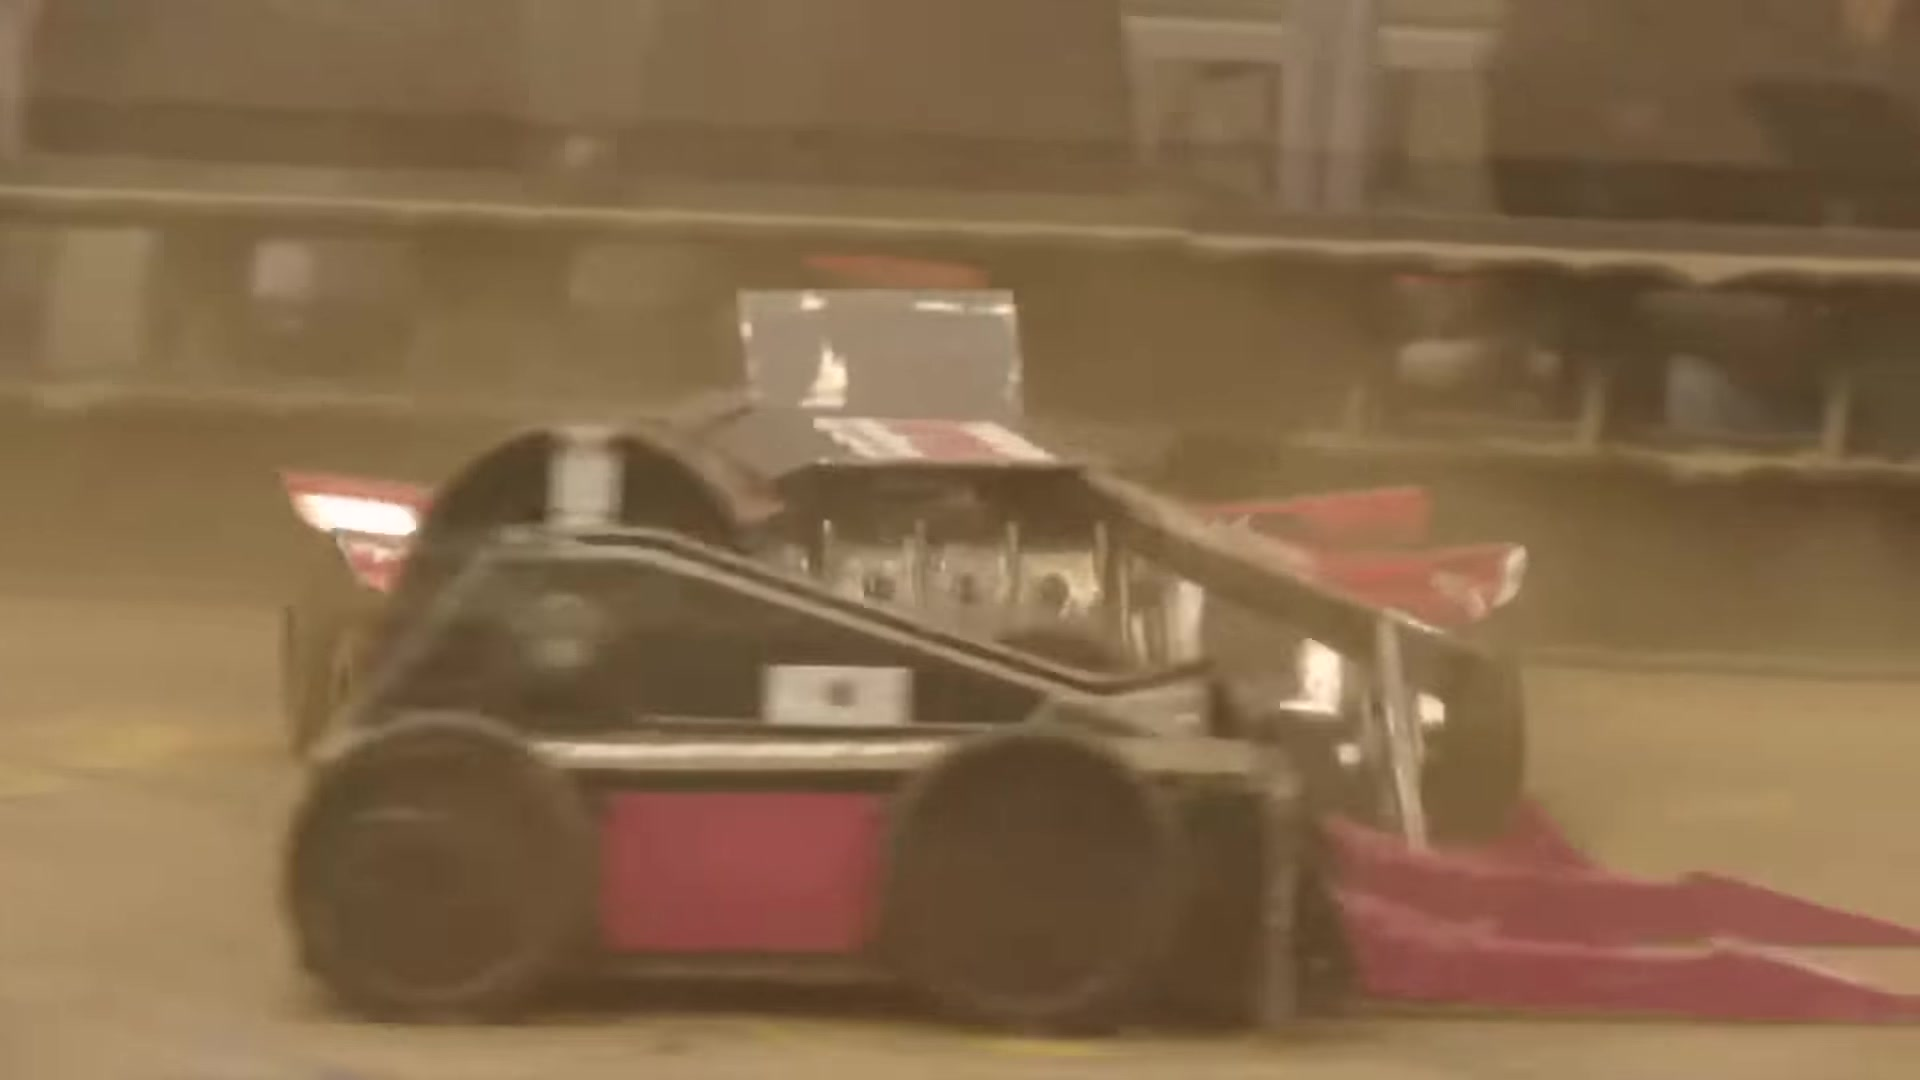combatbot: (275, 286, 1920, 1032)
